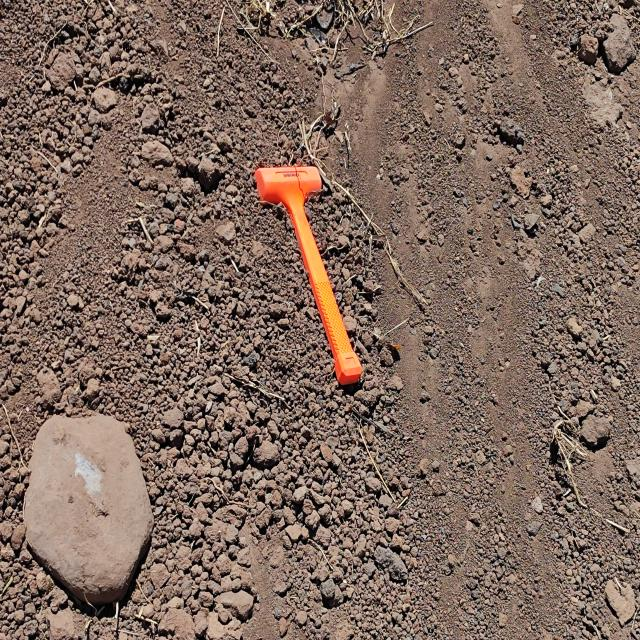Orange_hammer: (254, 163, 362, 387)
